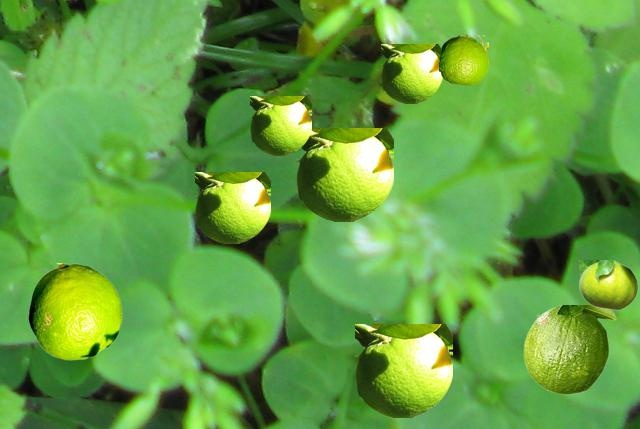dalandan: (28, 263, 121, 359), (296, 128, 392, 220), (355, 324, 451, 416), (523, 305, 615, 393), (195, 172, 269, 242), (381, 44, 441, 102), (250, 96, 310, 154), (579, 260, 637, 309), (439, 35, 487, 84)
